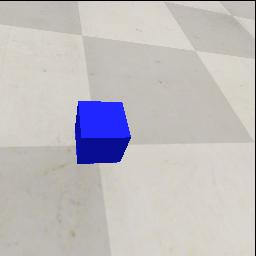box: (75, 101, 131, 164)
